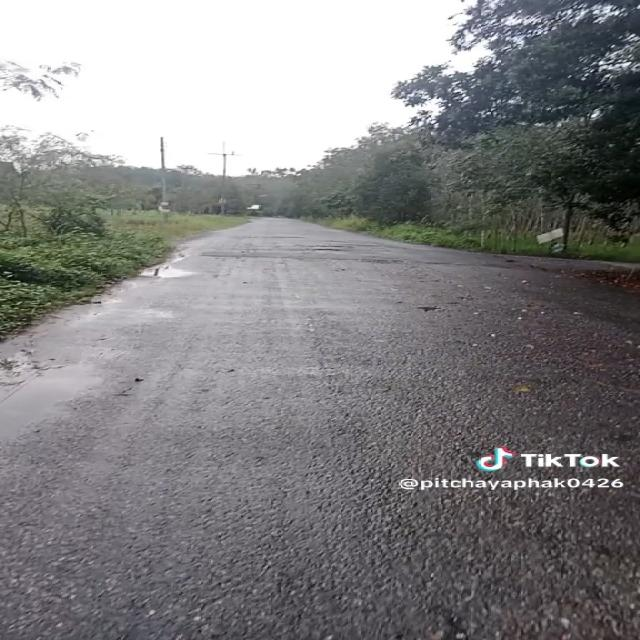Poth-hole: (148, 249, 203, 300)
